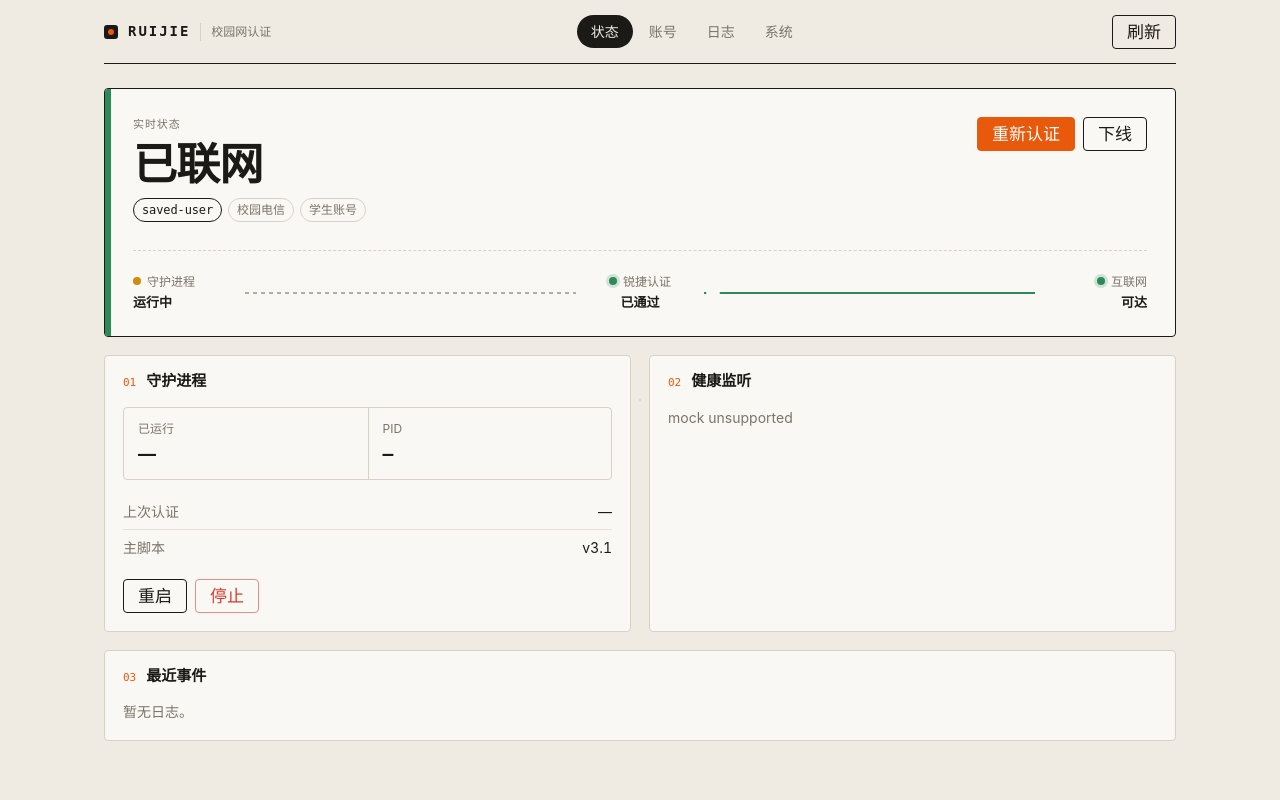
keeps password and reports an error when a business write fails
The width and height of the screenshot is (1280, 800).
Click the button "账号" at point(663, 32), box [635,15,691,48]
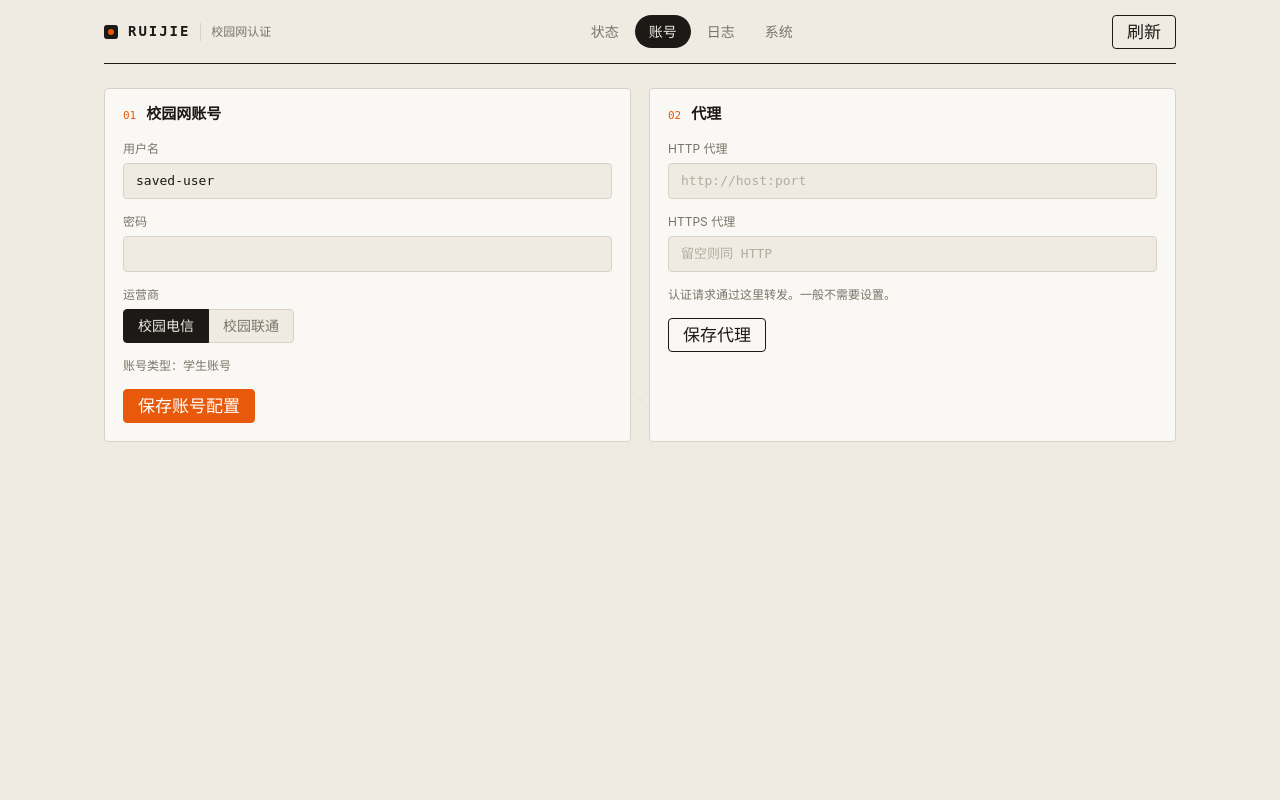
Check: the field labelled "用户名" holds "saved-user", box [123,162,612,198]
Type "test-password" into the password field labelled "密码" at point(368, 254), box [123,236,612,272]
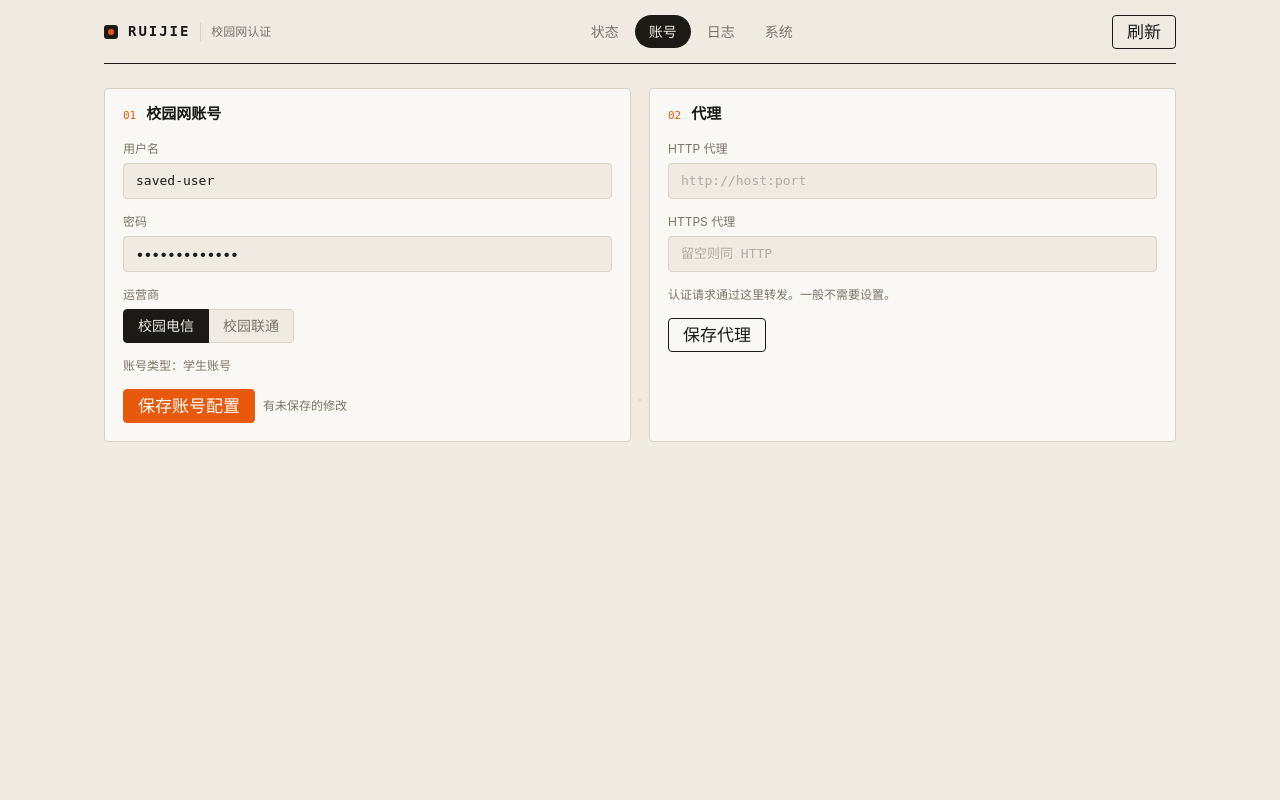
Click the button "保存账号配置" at point(189, 406), box [123,388,255,422]
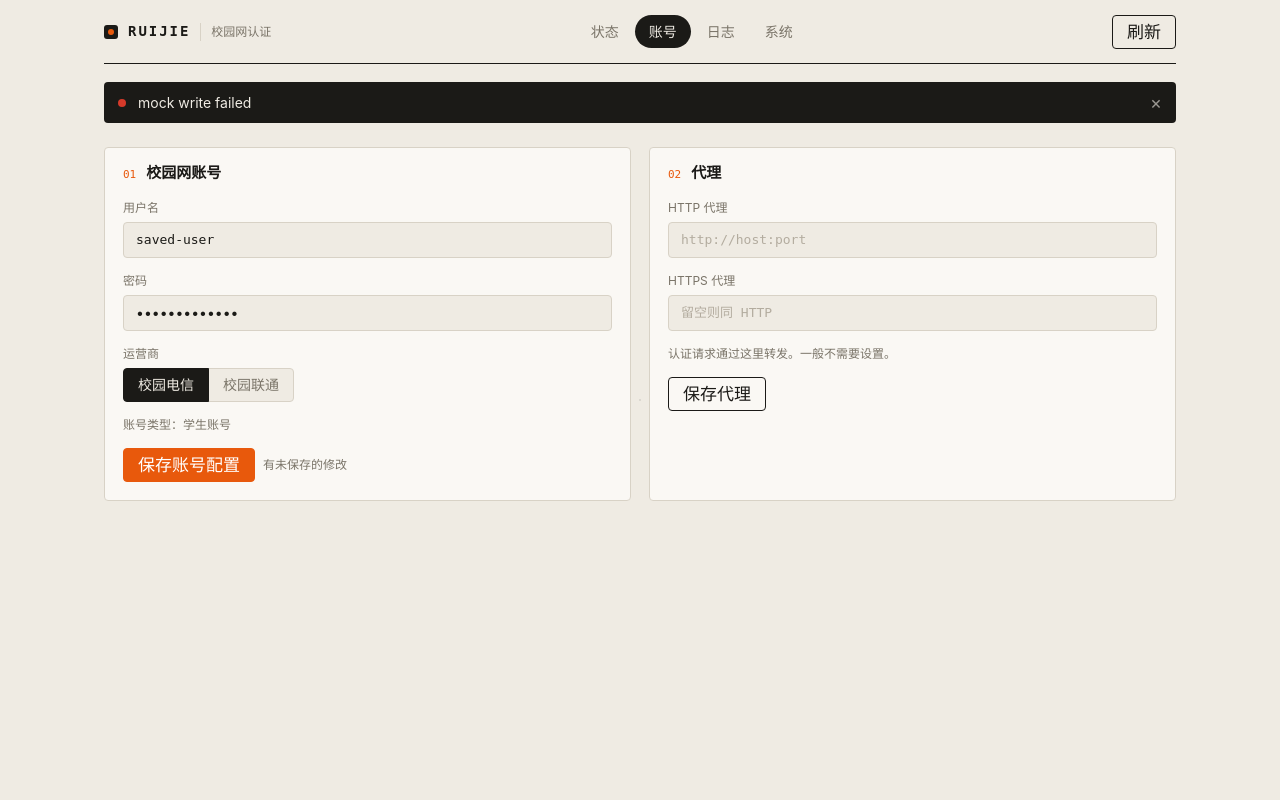
Check: the text "mock write failed" is shown, box [138,94,251,111]
